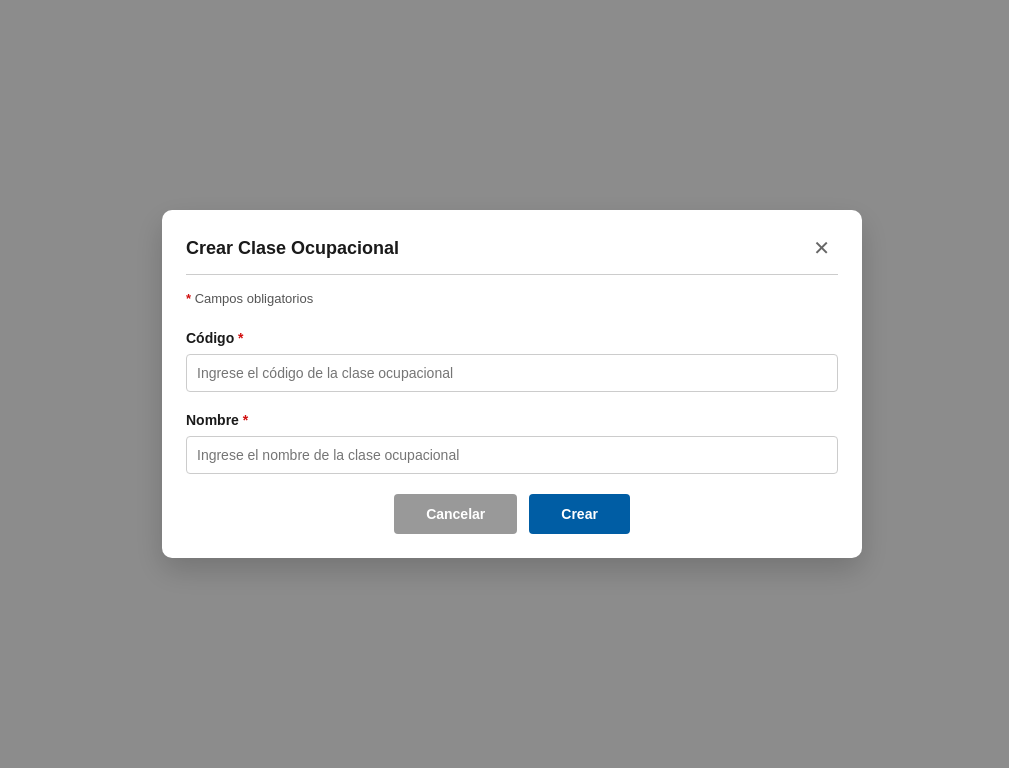
Test: CreateOccupationalClasses Modal › muestra error de validación cuando el nombre está vacío
Type "100" into the number field with placeholder "Ingrese el código de la clase ocupacional" at (512,373), box [186,354,838,392]
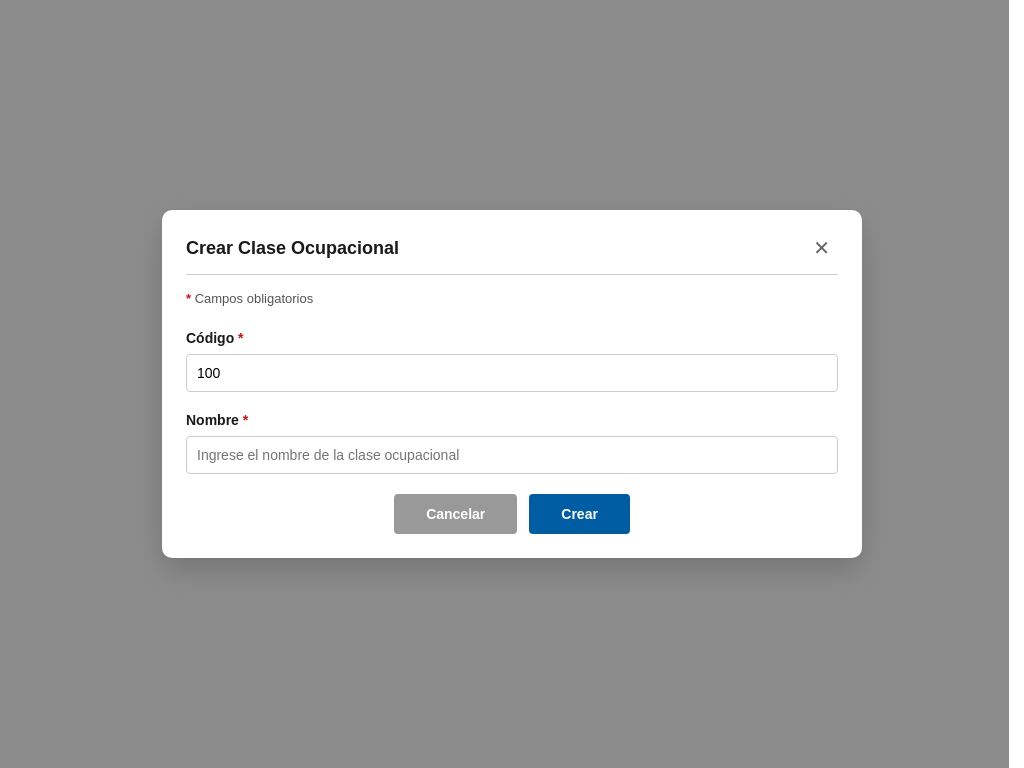
Submit the form, box [186,291,838,534]
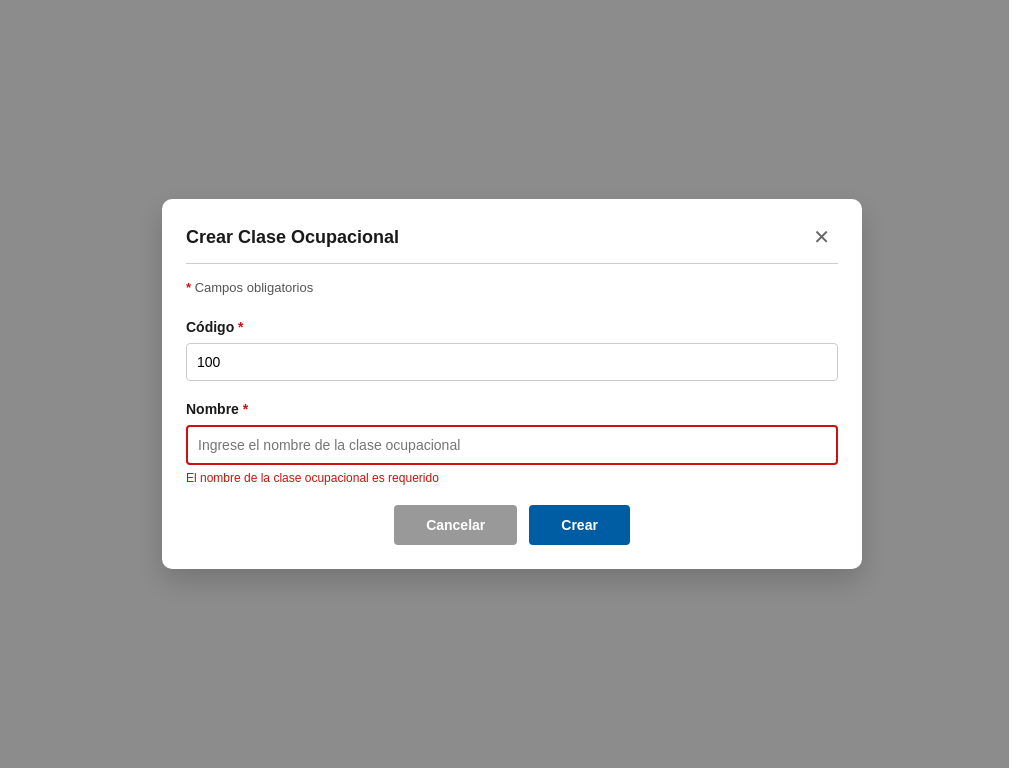
Now the text "El nombre de la clase ocupacional es requerido" is shown, box [186,471,439,485]
